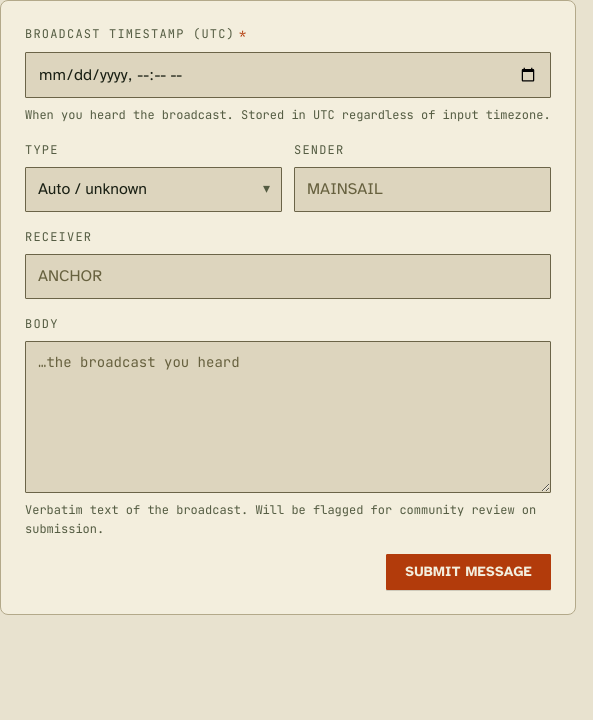
Test: MessageSubmitForm › reports queued state when the server returns null publishedAt
Type "2026-05-27T12:00" into the field labelled "Broadcast timestamp (UTC)*" at (288, 75), box x1=25 y1=52 x2=551 y2=98
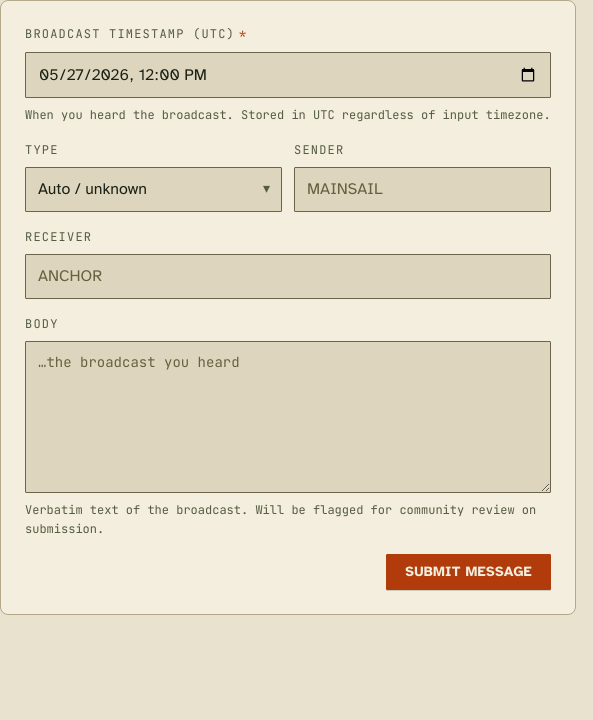
Type "maybe" into the text box labelled "Body" at (288, 417), box x1=25 y1=341 x2=551 y2=493
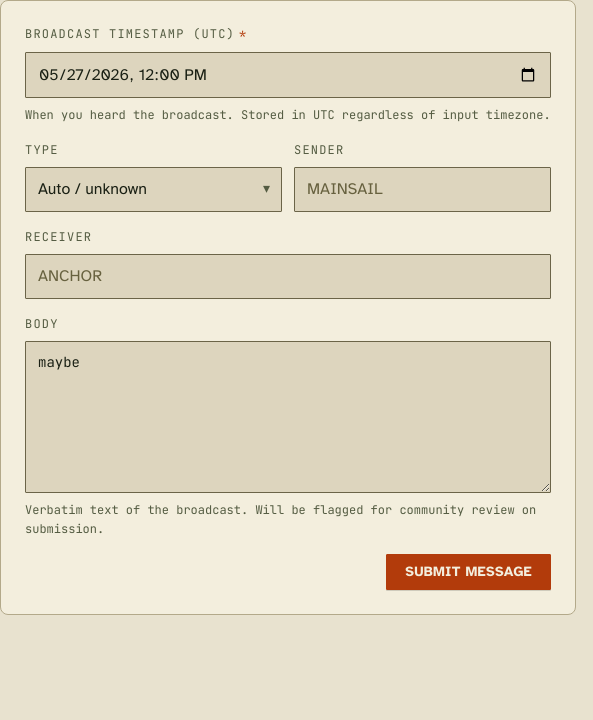
Click the button "Submit message" at (469, 572), box x1=386 y1=554 x2=551 y2=590
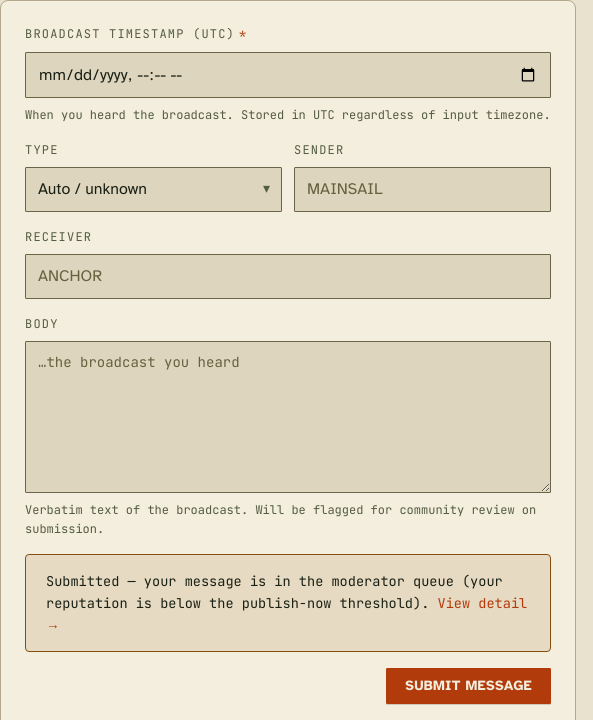
Result: the message shows "moderator queue" at x1=46 y1=572 x2=503 y2=612
